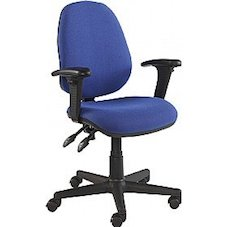chair: (27, 2, 194, 222)
